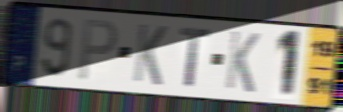1: (273, 28, 301, 103)
9: (40, 17, 74, 80)
K: (223, 28, 262, 95), (131, 21, 169, 89)
P: (76, 17, 120, 83)
T: (179, 25, 213, 90)
